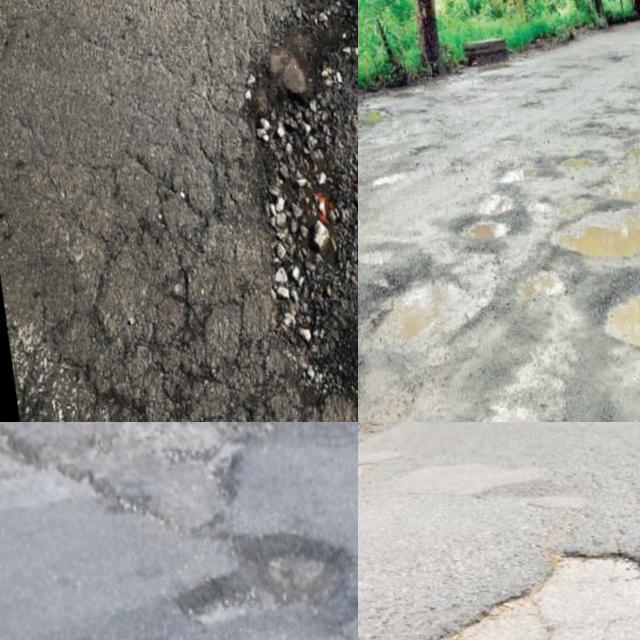Potholes: (163, 0, 358, 422), (0, 422, 358, 640), (358, 465, 640, 640), (358, 227, 510, 389), (497, 161, 640, 325), (358, 348, 588, 422), (452, 115, 573, 238), (584, 234, 640, 408), (570, 86, 640, 217), (358, 88, 423, 215), (366, 133, 452, 207)
